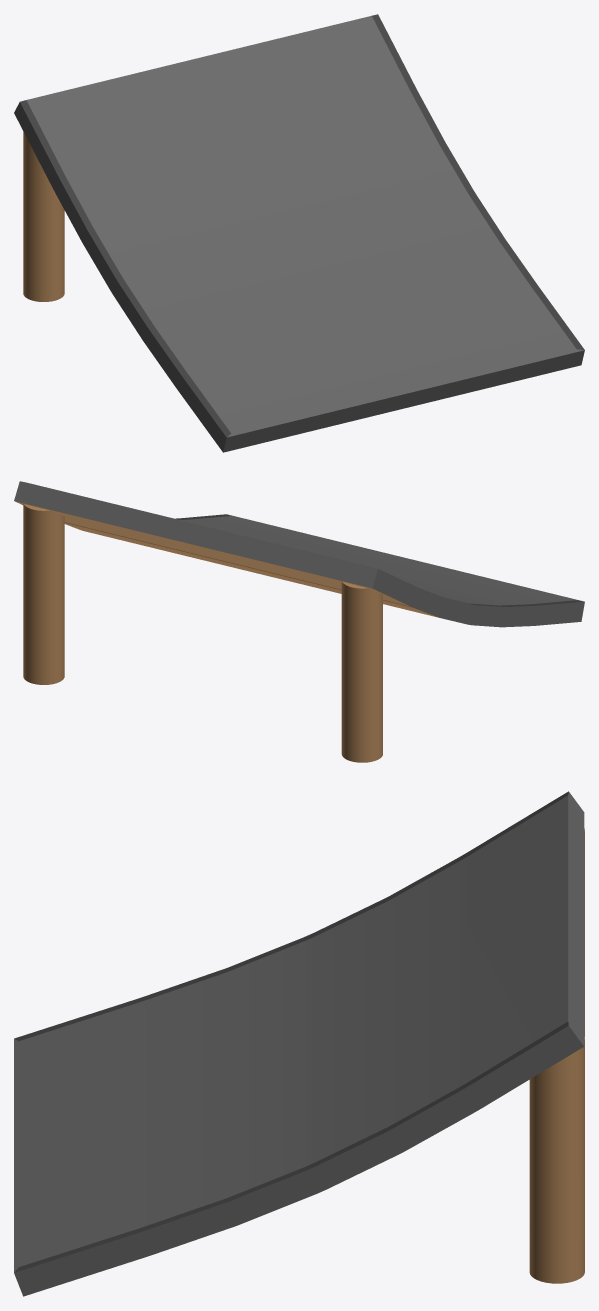
Rendered from Ramp.fbx.
3 views of the same model, one above another, from view 1: azimuth 30°, elevation 25°; view 2: azimuth 150°, elevation 25°; view 3: azimuth 270°, elevation 25° (orthographic). The views are drawn at different scales.
Parts seen in each view (by area): view 1: Ramp; view 2: Ramp; view 3: Ramp.
Part boxes in pixels (x1,y1,x2,y2): Ramp: [14, 14, 584, 452]; Ramp: [14, 481, 584, 762]; Ramp: [14, 791, 584, 1296].
Bounding box in the file's own units: 200 × 108 × 206.
